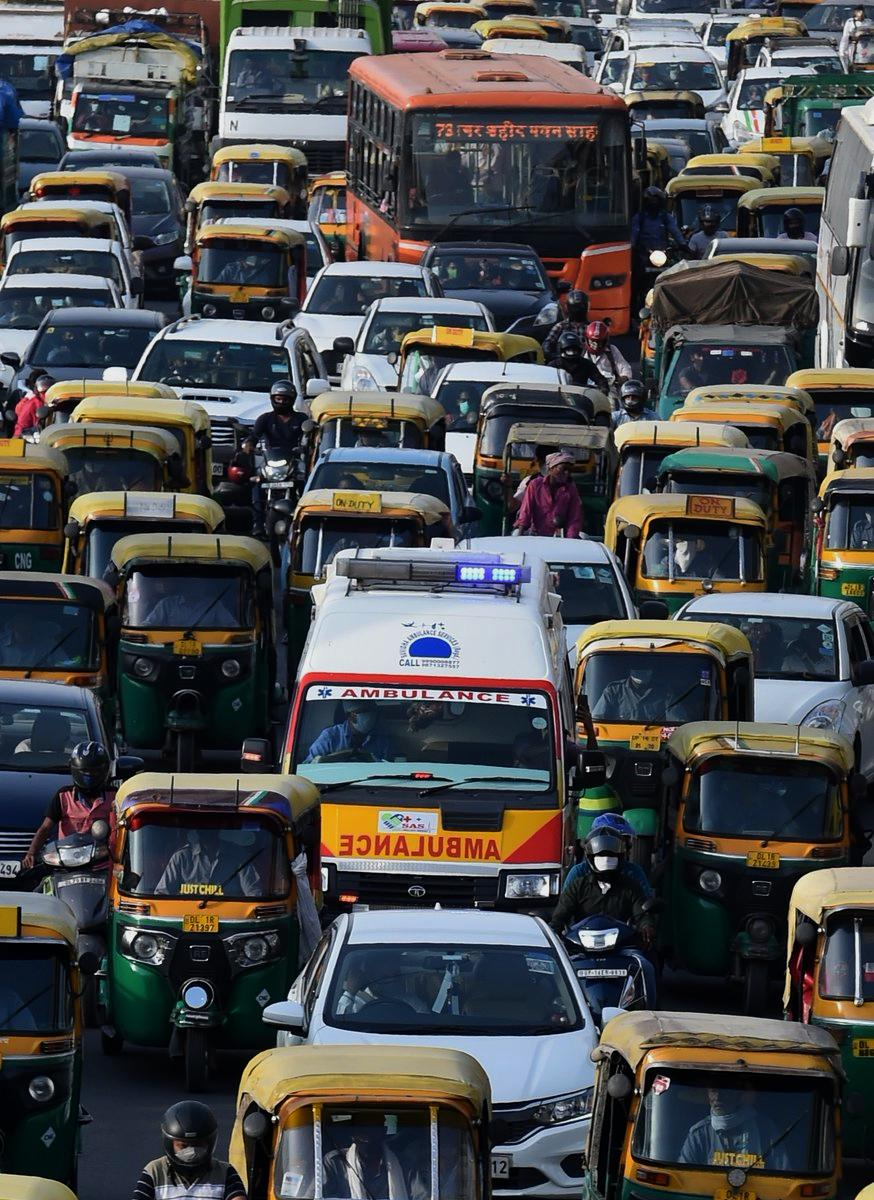ambulance: (295, 676, 557, 878)
